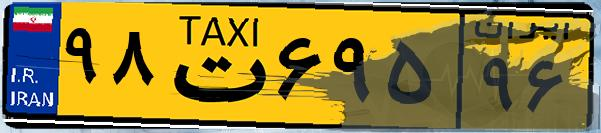5: (385, 28, 445, 110)
6: (270, 28, 330, 110), (525, 38, 570, 115)
8: (110, 28, 158, 98)
9: (330, 28, 385, 110), (57, 26, 110, 100), (475, 38, 525, 113)
ت: (158, 12, 270, 120)
